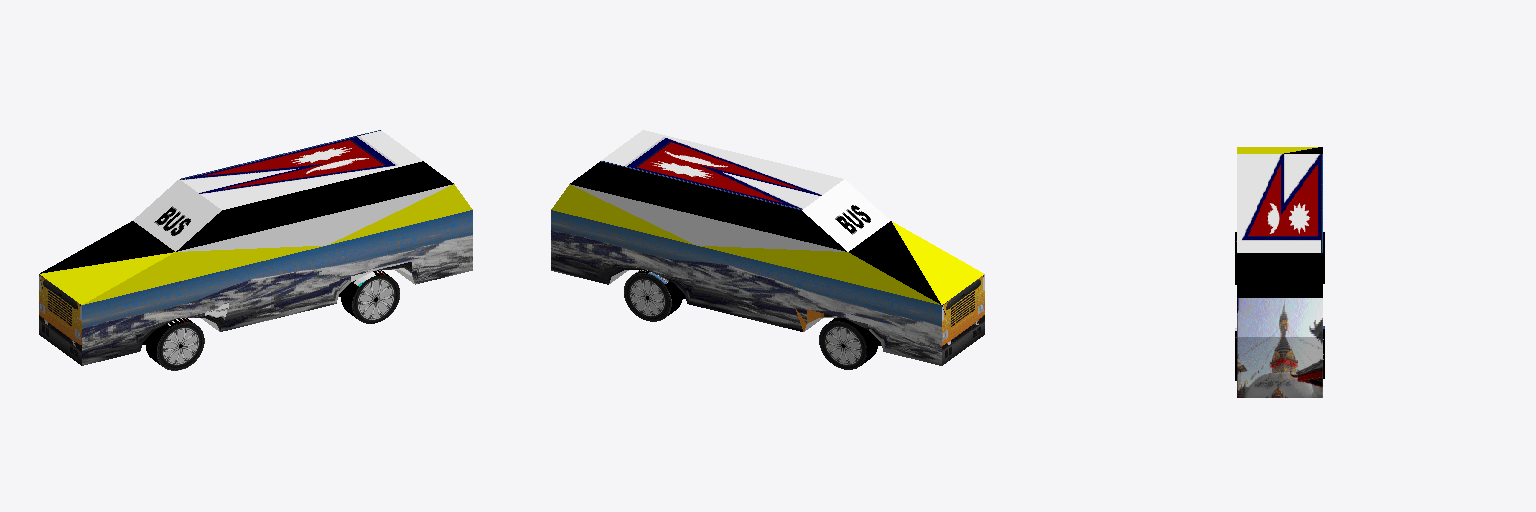
3 views of the same model, side by side, from view 1: azimuth 30°, elevation 25°; view 2: azimuth 150°, elevation 25°; view 3: azimuth 270°, elevation 25° (orthographic).
Parts seen in each view (by area): view 1: Cube.001; view 2: Cube.001; view 3: Cube.001.
Part boxes in pixels (bbox=[...]): Cube.001: bbox=[39, 130, 472, 370]; Cube.001: bbox=[551, 130, 984, 369]; Cube.001: bbox=[1235, 147, 1324, 397].
Size of the model in its own units: 12.05 by 4.4 by 2.39.
Materials: 1 (1 with a texture image).